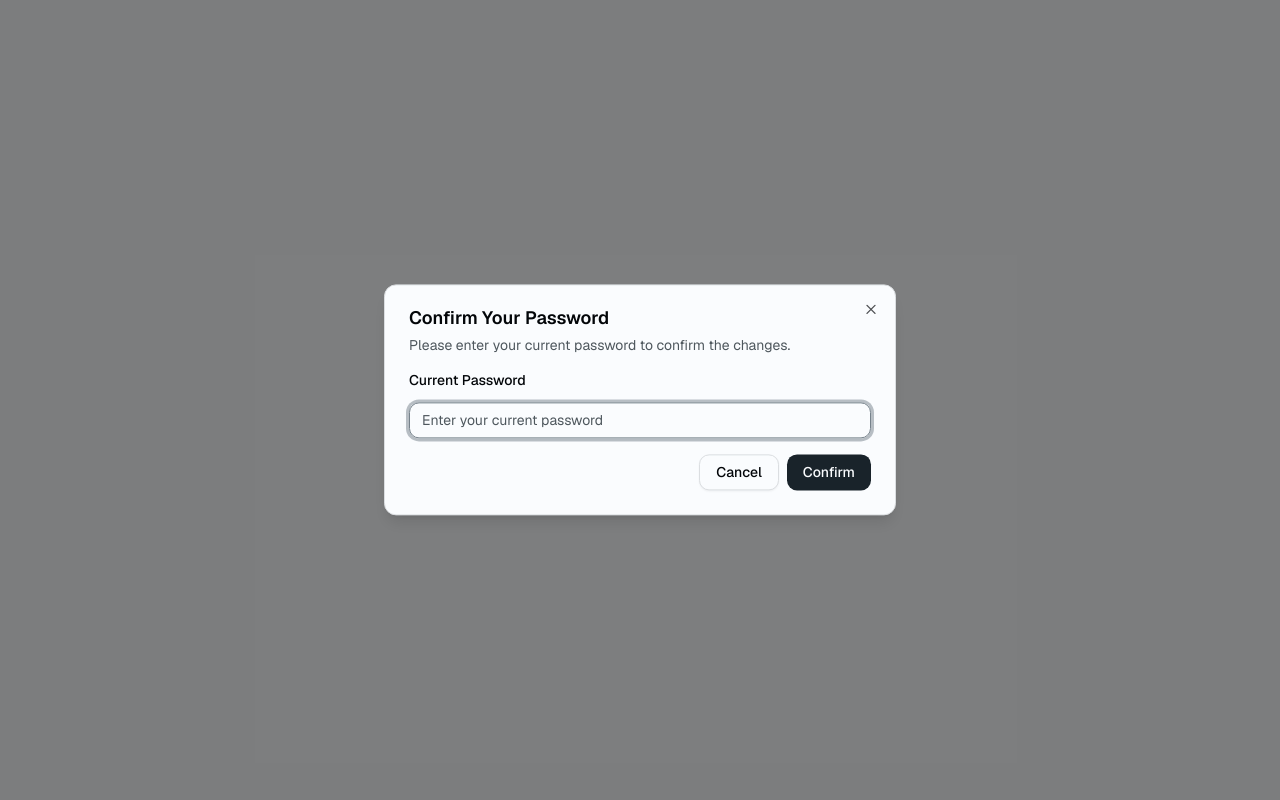
Test: PasswordConfirmationDialog › resets form when cancel is clicked
The image size is (1280, 800).
Type "somepassword" into the field labelled "Current Password" at [640, 421], box [409, 403, 871, 439]
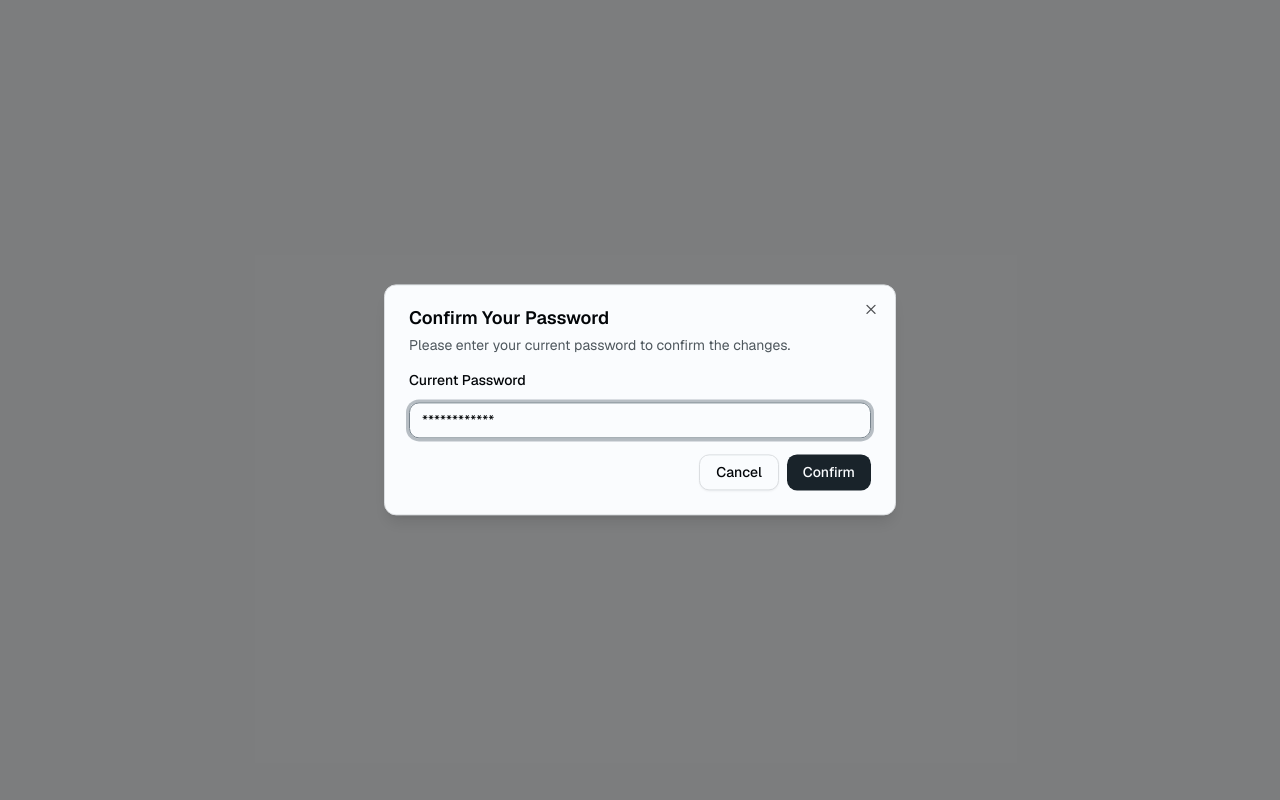
Click the button "Cancel" at [739, 473], box [699, 455, 779, 491]
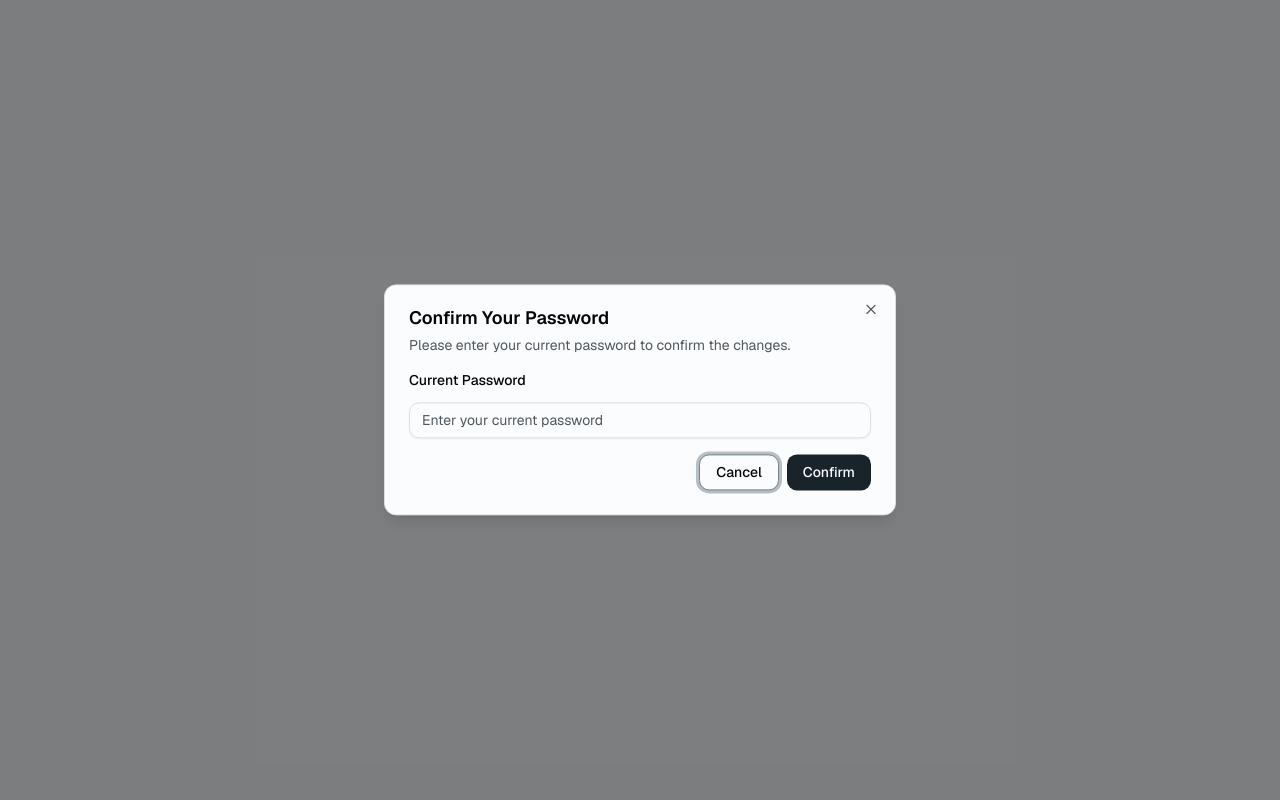
Now the field labelled "Current Password" is empty, box [409, 403, 871, 439]
